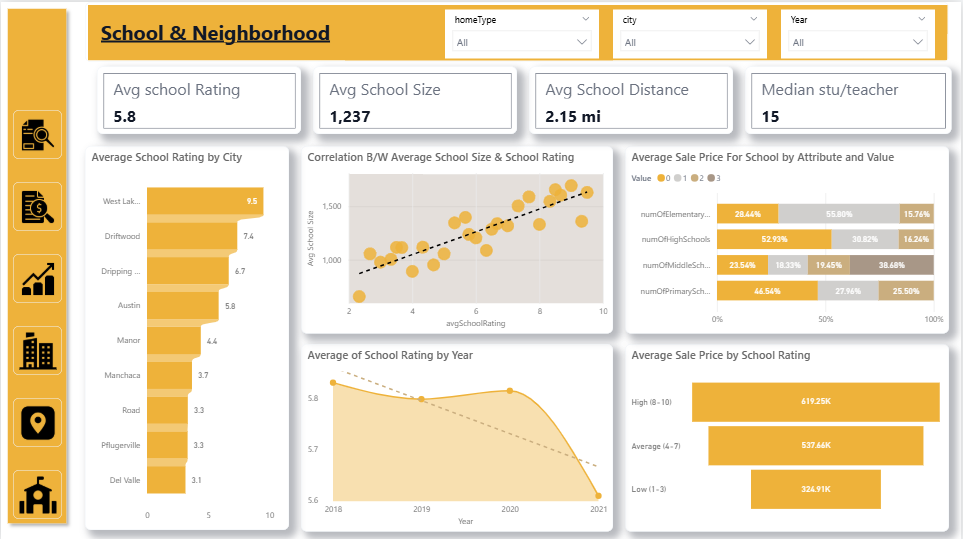

The dashboard page shown, as its layout file describes it:
{"tool":"powerbi","page":{"name":"Schools & Neighborhood","canvas":[1280,720],"ordinal":5},"visuals":[{"type":"funnel","title":"Average Sale Price by School Rating","fields":{"Category":["Dim_School.School Rating"],"Y":["Measure.Avg Price"]},"box":[832,455,432,250],"z":0},{"type":"hundredPercentStackedBarChart","title":"Average Sale Price For School by Attribute and Value","fields":{"Category":["School Pivot.Attribute"],"Series":["School Pivot.Value"],"Y":["Measure.Avg Sale Price For School"]},"box":[832,192,432,250],"z":1000},{"type":"scatterChart","title":"Correlation B/W Average School Size & School Rating","fields":{"Y":["Measure.Avg School Size"],"X":["Dim_School.avgSchoolRating"]},"box":[400,192,416,250],"z":2000},{"type":"barChart","title":"Average School Rating by City","fields":{"Category":["Dim_Location.city"],"Y":["Avg(Dim_School.avgSchoolRating)"]},"box":[112,192,272,512],"z":3000},{"type":"areaChart","title":"Average of School Rating by Year","fields":{"Category":["Fact_Housing.latest_saledate.Variation.Date Hierarchy.Year"],"Y":["Avg(Dim_School.avgSchoolRating)"]},"box":[400,455,416,250],"z":4000},{"type":"cardVisual","fields":{"Data":["Measure.Avg school Rating"]},"box":[128,85,272,90],"z":5000},{"type":"cardVisual","fields":{"Data":["Measure.Avg School Size"]},"box":[416,85,272,90],"z":6000},{"type":"cardVisual","fields":{"Data":["Measure.Avg School Distance"]},"box":[704,85,272,90],"z":7000},{"type":"cardVisual","fields":{"Data":["Measure.Median stu/teacher"]},"box":[992,85,275,90],"z":8000},{"type":"shape","box":[0,0,96,704],"z":9000},{"type":"image","box":[16,144,65,65],"z":10000},{"type":"image","box":[16,240,65,65],"z":11000},{"type":"image","box":[16,336,65,65],"z":12000},{"type":"image","box":[16,432,65,65],"z":13000},{"type":"image","box":[16,528,65,65],"z":14000},{"type":"image","box":[16,624,65,65],"z":15000},{"type":"shape","box":[112,0,1152,80],"z":16000},{"type":"slicer","fields":{"Values":["Fact_Housing.latest_saledate.Variation.Date Hierarchy.Year"]},"box":[1040,10,205,65],"z":17000},{"type":"slicer","fields":{"Values":["Dim_Location.city"]},"box":[816,10,205,65],"z":18000},{"type":"slicer","fields":{"Values":["Dim_House_Details.homeType"]},"box":[592,10,205,65],"z":19000},{"type":"textbox","title":"Executive Overview","box":[128,16,352,64],"z":19001}]}

Visuals, with their boxes on the page's 1280x720 design canvas (x1, y1, x2, y2). These are canvas units, not pixel positions in the 963x539 screenshot, which may show the page scaled, cropped or inside an application window:
"Average Sale Price by School Rating" funnel: bbox(832, 455, 1264, 705)
"Average Sale Price For School by Attribute and Value" hundredPercentStackedBarChart: bbox(832, 192, 1264, 442)
"Correlation B/W Average School Size & School Rating" scatterChart: bbox(400, 192, 816, 442)
"Average School Rating by City" barChart: bbox(112, 192, 384, 704)
"Average of School Rating by Year" areaChart: bbox(400, 455, 816, 705)
cardVisual - Measure.Avg school Rating: bbox(128, 85, 400, 175)
cardVisual - Measure.Avg School Size: bbox(416, 85, 688, 175)
cardVisual - Measure.Avg School Distance: bbox(704, 85, 976, 175)
cardVisual - Measure.Median stu/teacher: bbox(992, 85, 1267, 175)
shape: bbox(0, 0, 96, 704)
image: bbox(16, 144, 81, 209)
image: bbox(16, 240, 81, 305)
image: bbox(16, 336, 81, 401)
image: bbox(16, 432, 81, 497)
image: bbox(16, 528, 81, 593)
image: bbox(16, 624, 81, 689)
shape: bbox(112, 0, 1264, 80)
slicer - Fact_Housing.latest_saledate.Variation.Date Hierarchy.Year: bbox(1040, 10, 1245, 75)
slicer - Dim_Location.city: bbox(816, 10, 1021, 75)
slicer - Dim_House_Details.homeType: bbox(592, 10, 797, 75)
"Executive Overview" textbox: bbox(128, 16, 480, 80)
